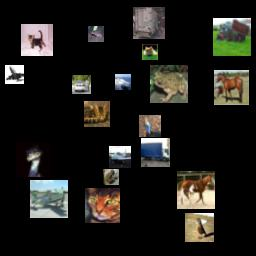airplane: (30, 180, 68, 218), (109, 146, 131, 168), (5, 65, 24, 84)
automobile: (72, 75, 91, 94)
bird: (16, 142, 51, 177), (185, 213, 214, 242), (139, 115, 161, 137)
cat: (85, 188, 120, 223), (21, 24, 53, 56), (84, 101, 110, 127), (142, 44, 158, 60)
frog: (150, 65, 188, 103), (88, 26, 104, 42), (103, 169, 119, 185)
ship: (115, 74, 131, 90)
truck: (213, 18, 251, 56), (133, 7, 165, 39), (141, 138, 170, 167)
